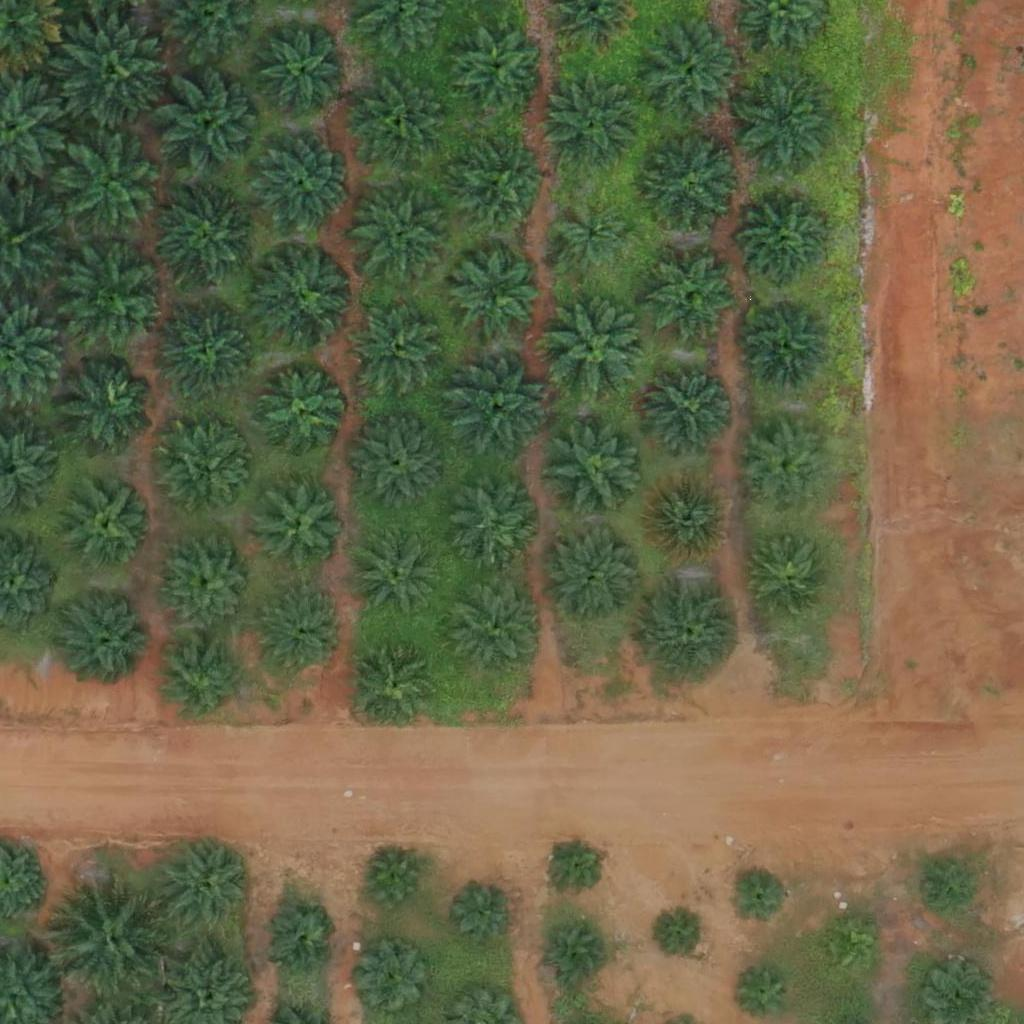Kelapa_Sawit: (50, 874, 175, 1000), (55, 133, 168, 246), (54, 15, 166, 128), (548, 300, 648, 401), (448, 20, 548, 121), (449, 136, 549, 237), (447, 360, 547, 461), (351, 73, 451, 174), (350, 182, 450, 283), (349, 299, 449, 400), (347, 415, 447, 516), (250, 133, 350, 234), (255, 246, 355, 347), (158, 73, 258, 174), (156, 189, 256, 290), (158, 299, 258, 400), (66, 243, 166, 344), (444, 573, 544, 674), (546, 421, 646, 522), (544, 525, 644, 626), (643, 579, 743, 680), (733, 70, 833, 170), (638, 22, 738, 122), (640, 136, 740, 236), (543, 74, 643, 174), (55, 355, 155, 455), (58, 587, 158, 687), (160, 533, 260, 633), (155, 837, 255, 937), (650, 252, 738, 340), (644, 362, 732, 450), (257, 370, 345, 458), (257, 483, 345, 571), (259, 589, 347, 677), (355, 529, 443, 617), (352, 639, 440, 727), (644, 473, 732, 561), (749, 536, 837, 624), (743, 202, 830, 290), (744, 299, 831, 387), (743, 425, 830, 513), (452, 248, 539, 336), (260, 30, 347, 118), (163, 429, 250, 517), (66, 479, 153, 567), (160, 636, 247, 724), (459, 476, 546, 564), (555, 202, 630, 278), (260, 902, 335, 978), (358, 944, 433, 1019), (543, 834, 606, 897), (544, 923, 607, 986), (818, 918, 881, 981), (910, 856, 973, 919), (363, 850, 425, 913), (453, 883, 515, 946), (728, 865, 790, 928), (658, 909, 708, 960)
